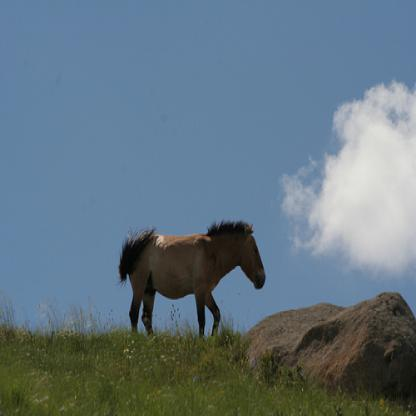horse: (118, 216, 266, 336)
